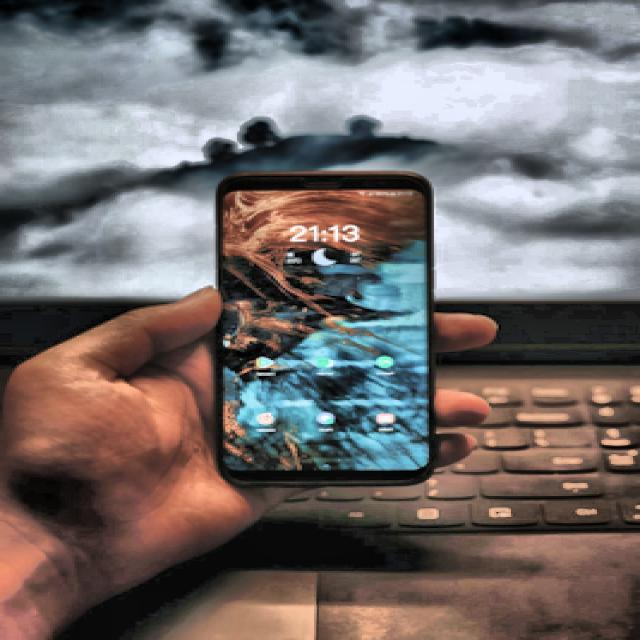Phone: (214, 172, 438, 486)
